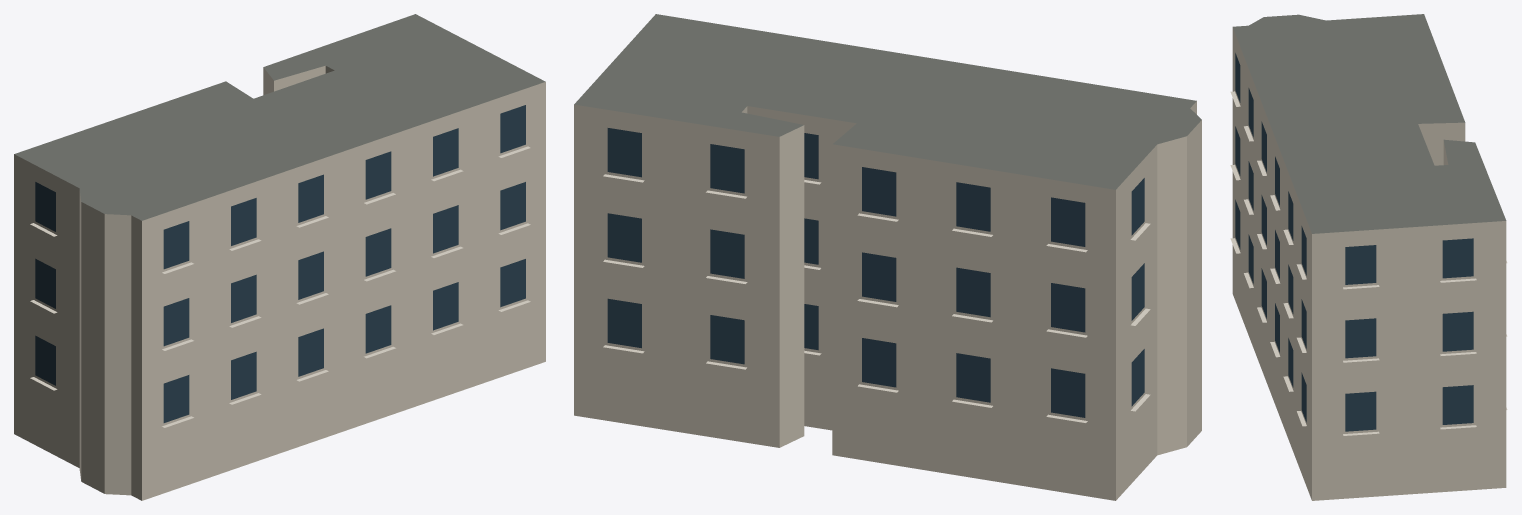
The picture shows the model from 3 angles, left to right: view 1: azimuth 30°, elevation 25°; view 2: azimuth 150°, elevation 25°; view 3: azimuth 270°, elevation 25°; orthographic projection. The views are drawn at different scales.
Visible parts, largest first — view 1: Footprint 0, Inferred window bays, Window sills; view 2: Footprint 0, Inferred window bays, Window sills; view 3: Footprint 0, Inferred window bays, Window sills.
Part boxes in pixels (bbox=[...]): Footprint 0: bbox=[14, 14, 545, 500]; Inferred window bays: bbox=[35, 105, 525, 422]; Window sills: bbox=[30, 146, 530, 427]; Footprint 0: bbox=[574, 14, 1201, 500]; Inferred window bays: bbox=[607, 128, 1144, 417]; Window sills: bbox=[603, 174, 1150, 422]; Footprint 0: bbox=[1232, 14, 1506, 500]; Inferred window bays: bbox=[1235, 53, 1473, 431]; Window sills: bbox=[1230, 91, 1507, 435].
Size of the model in its own units: 20.6 by 11.61 by 10.93.
